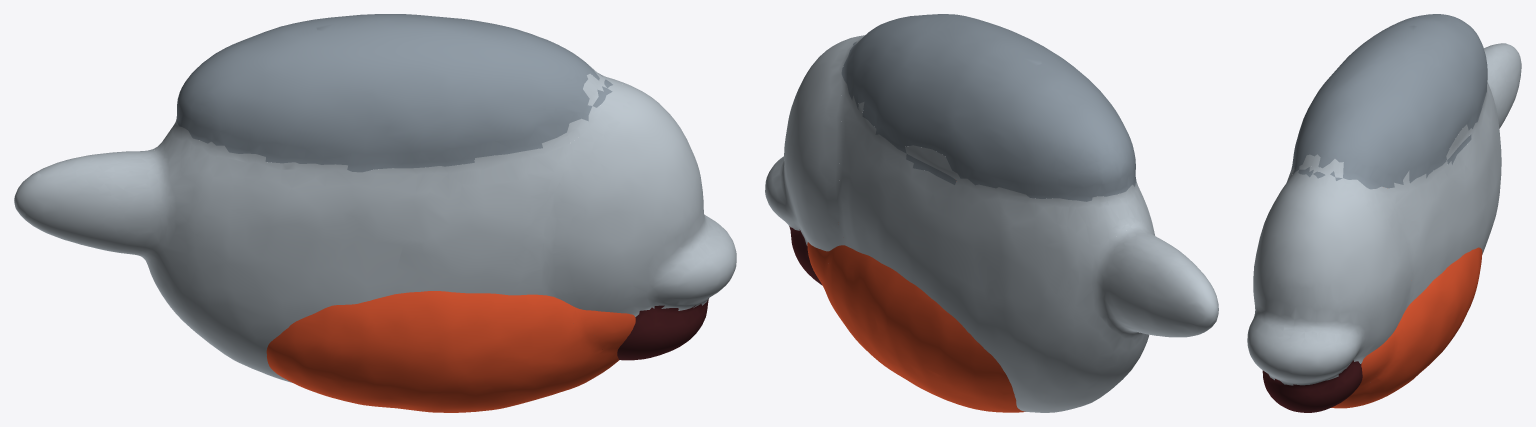
The model's file is sjalvklart.glb.
The picture shows the model from 3 angles, left to right: view 1: azimuth 30°, elevation 25°; view 2: azimuth 150°, elevation 25°; view 3: azimuth 270°, elevation 25°; orthographic projection. The views are drawn at different scales.
Visible parts, largest first — view 1: piranha__r0, barriga__r0; view 2: piranha__r0, barriga__r0; view 3: piranha__r0, barriga__r0.
Boxes of the visible parts, <box> form: piranha__r0: <box>14,14,736,382</box>; barriga__r0: <box>266,291,635,412</box>; piranha__r0: <box>765,14,1218,412</box>; barriga__r0: <box>807,242,1025,412</box>; piranha__r0: <box>1247,14,1521,412</box>; barriga__r0: <box>1331,247,1482,408</box>.
Size of the model in its own units: 2.46 by 1.55 by 1.22.
